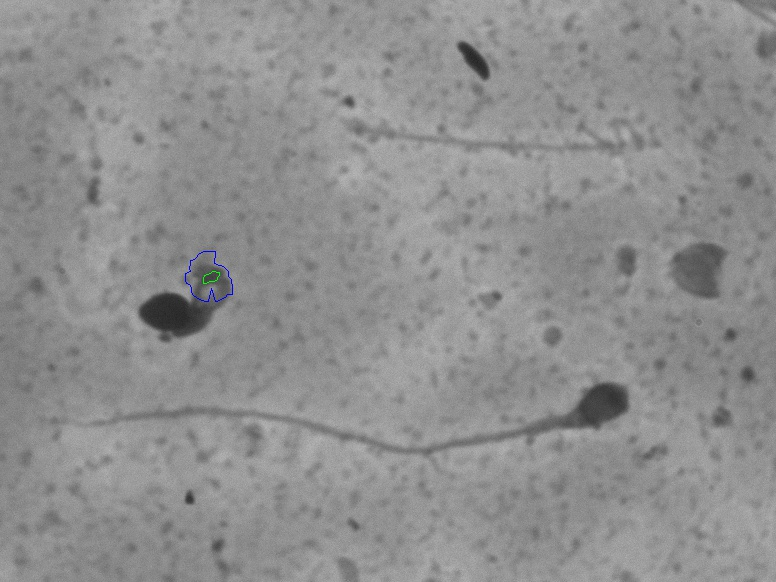Abnormal: (38, 359, 657, 471)
